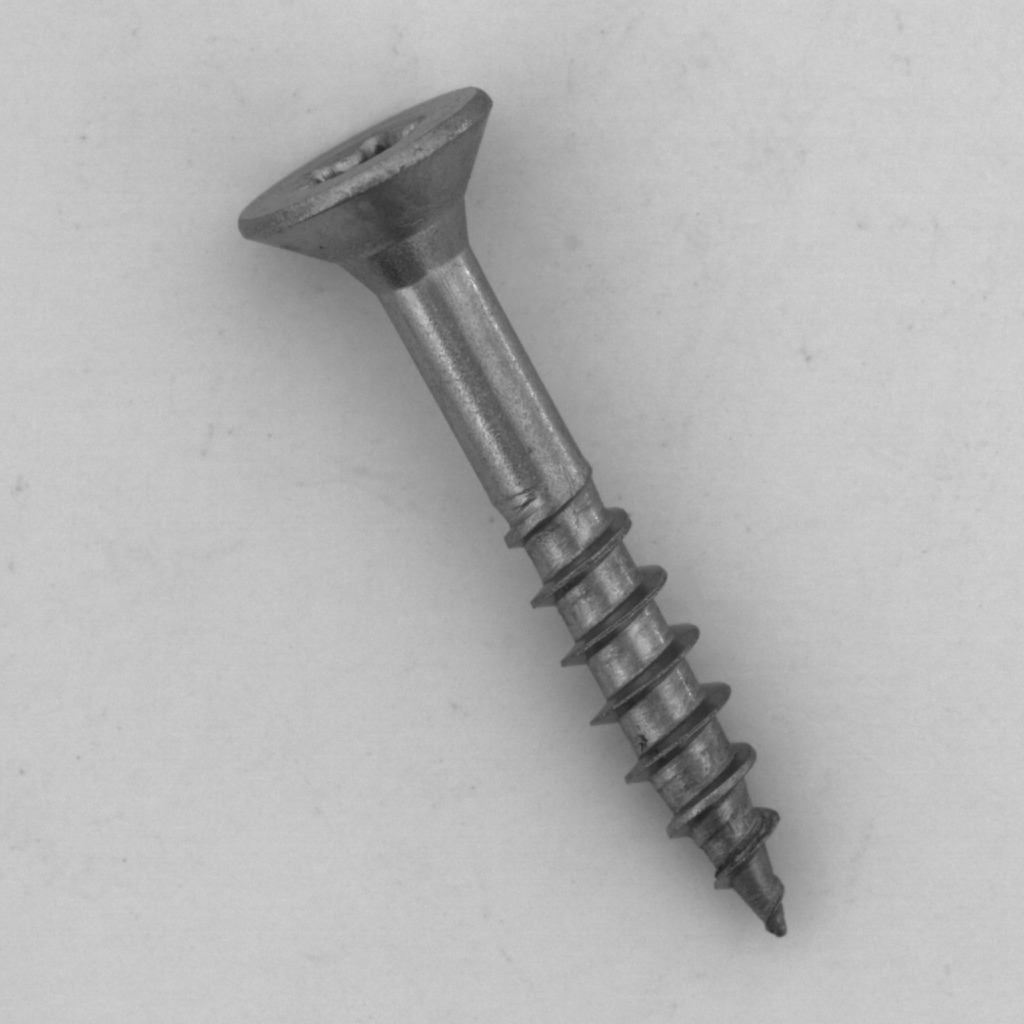good: (215, 75, 807, 956)
